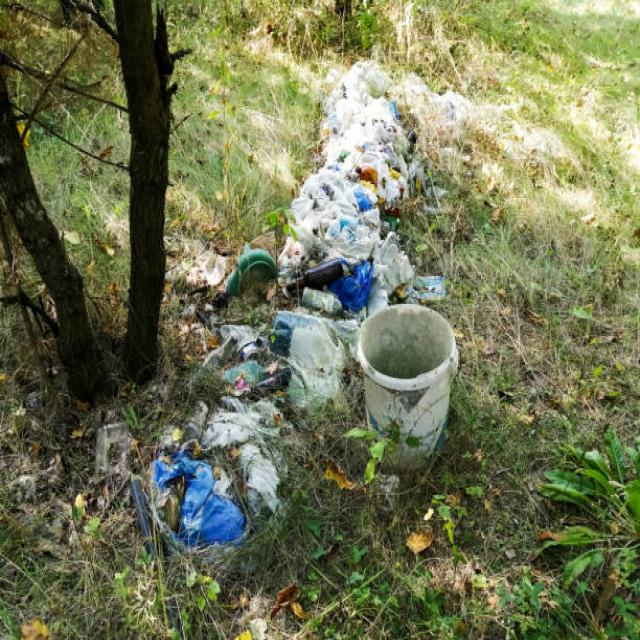plastic: (325, 57, 450, 476)
